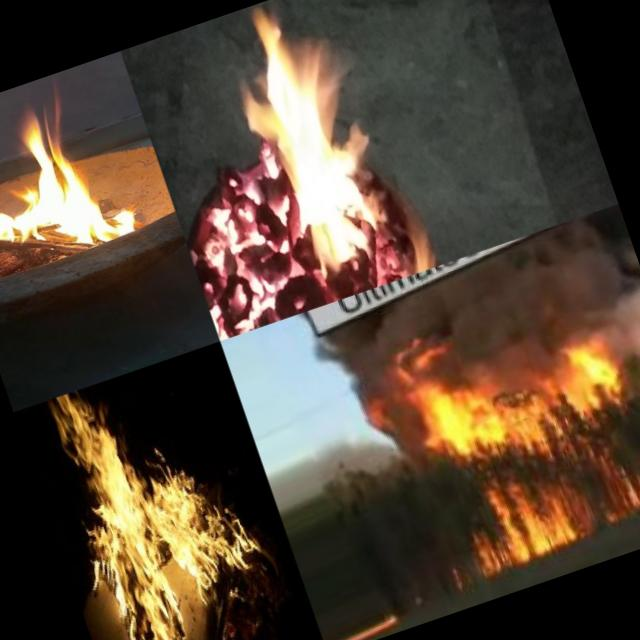fire: (31, 350, 290, 640), (211, 0, 453, 310), (388, 290, 636, 474), (0, 68, 144, 288), (455, 424, 640, 582), (168, 160, 308, 340)
smoke: (303, 240, 596, 384), (573, 203, 640, 374), (332, 362, 415, 464)
